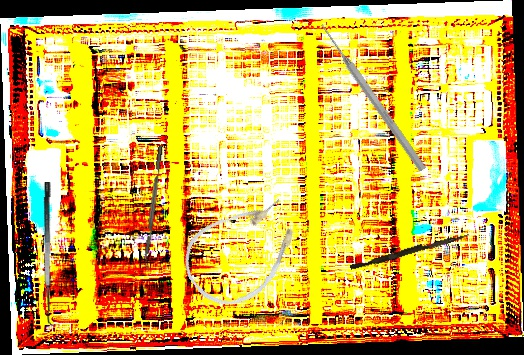Cannula: (170, 181, 317, 322)
Chopper: (141, 144, 169, 272)
Pusher: (316, 21, 429, 173), (349, 229, 470, 273)
Spatula Surgical: (40, 182, 63, 326)
